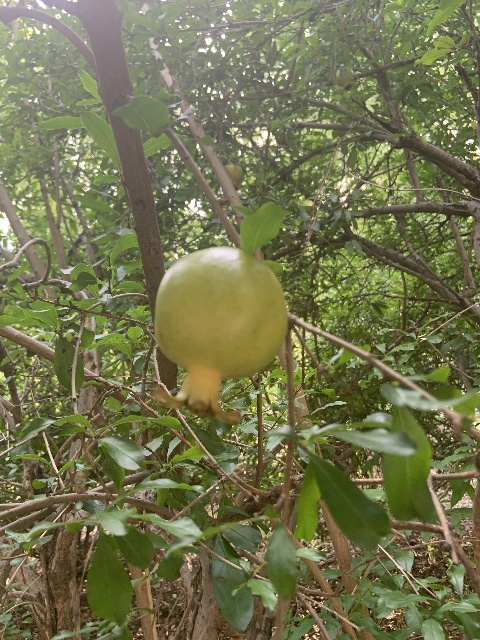mid-growth: (147, 245, 288, 425), (223, 164, 243, 190), (335, 67, 353, 92)
